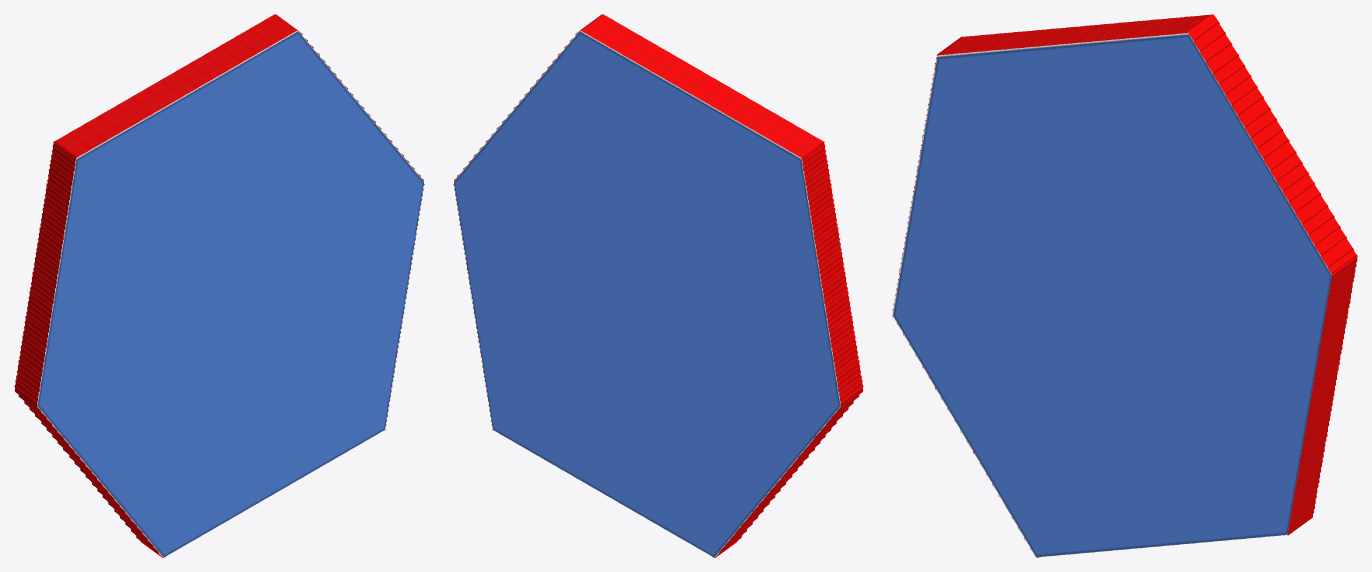
Rendered from simple_model12.glb.
The picture shows the model from 3 angles, left to right: view 1: azimuth 30°, elevation 25°; view 2: azimuth 150°, elevation 25°; view 3: azimuth 330°, elevation 25°; orthographic projection. The views are drawn at different scales.
Size of the model in its own units: 1 by 1.22 by 0.1.
Materials: 1005 (2 with a texture image).
